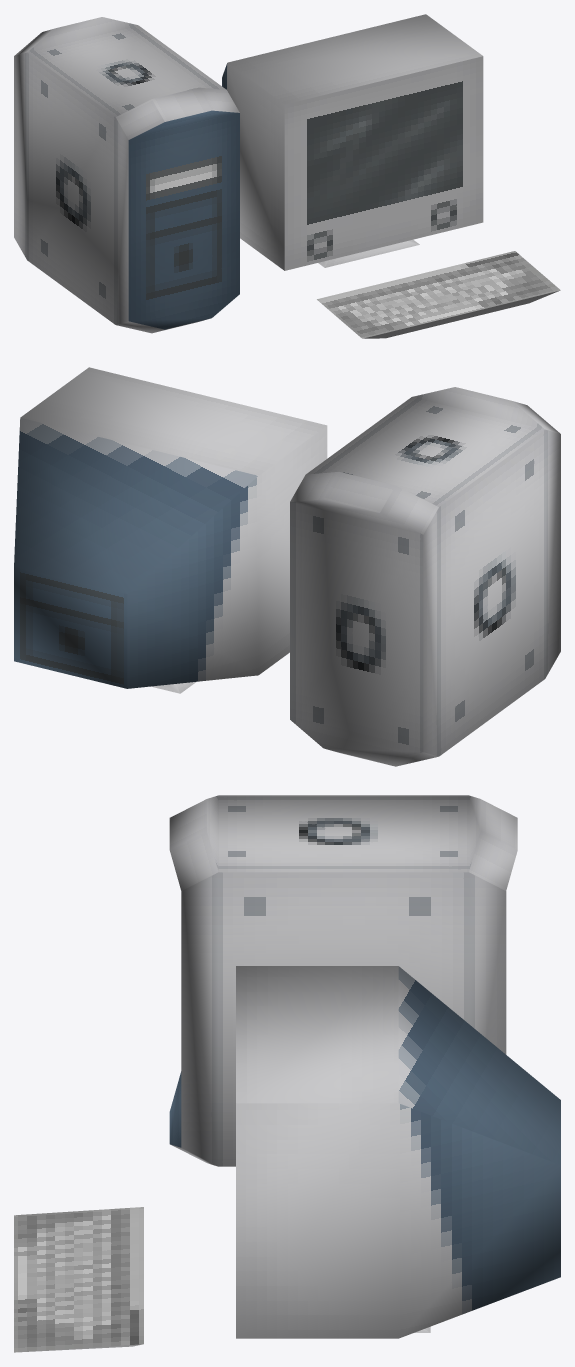
File: mac.fbx
3 renders of one model, top to bottom at view 1: azimuth 30°, elevation 25°; view 2: azimuth 150°, elevation 25°; view 3: azimuth 270°, elevation 25°, orthographic. The views are drawn at different scales.
Parts seen in each view (by area): view 1: mac; view 2: mac; view 3: mac.
Part boxes in pixels (x1,y1,x2,y2): mac: (14, 14, 560, 338); mac: (14, 367, 560, 766); mac: (14, 795, 560, 1352).
Bounding box in the file's own units: 71.72 × 42.98 × 64.15.
